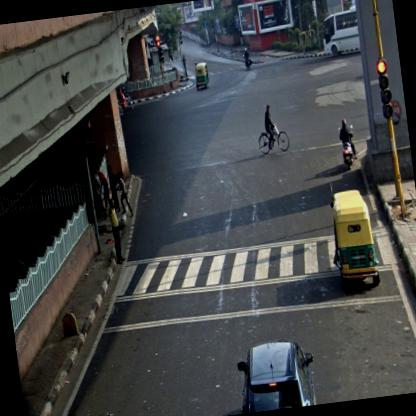bus: (321, 11, 361, 57)
car: (234, 338, 318, 412)
motorcycle: (253, 102, 290, 154), (336, 116, 358, 168), (242, 47, 253, 72)
